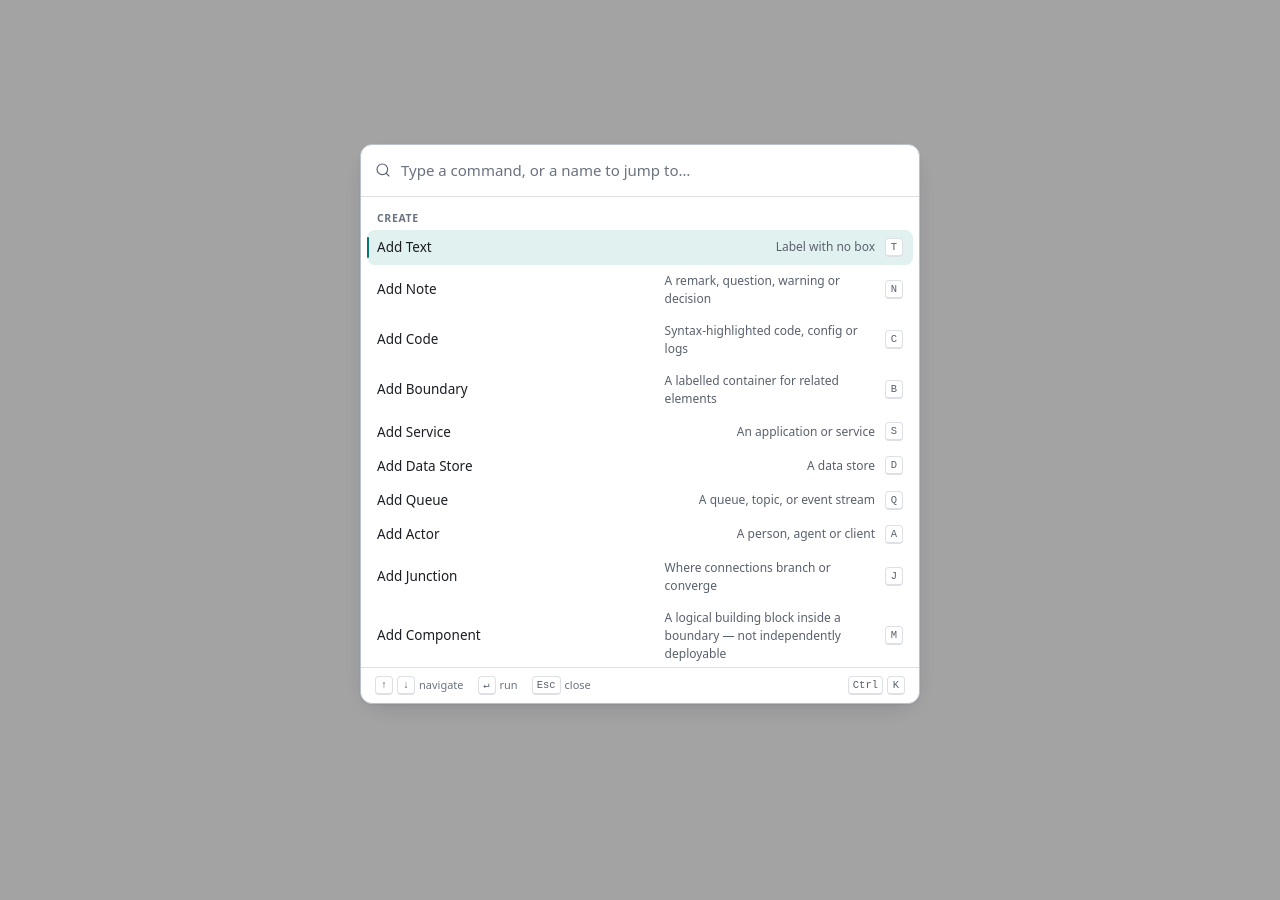
CommandPalette › shows "No matching commands." for a query nothing matches
This screenshot has width=1280, height=900.
Type " zzzzqq " into the dropdown at (653, 170), box [401, 157, 905, 184]
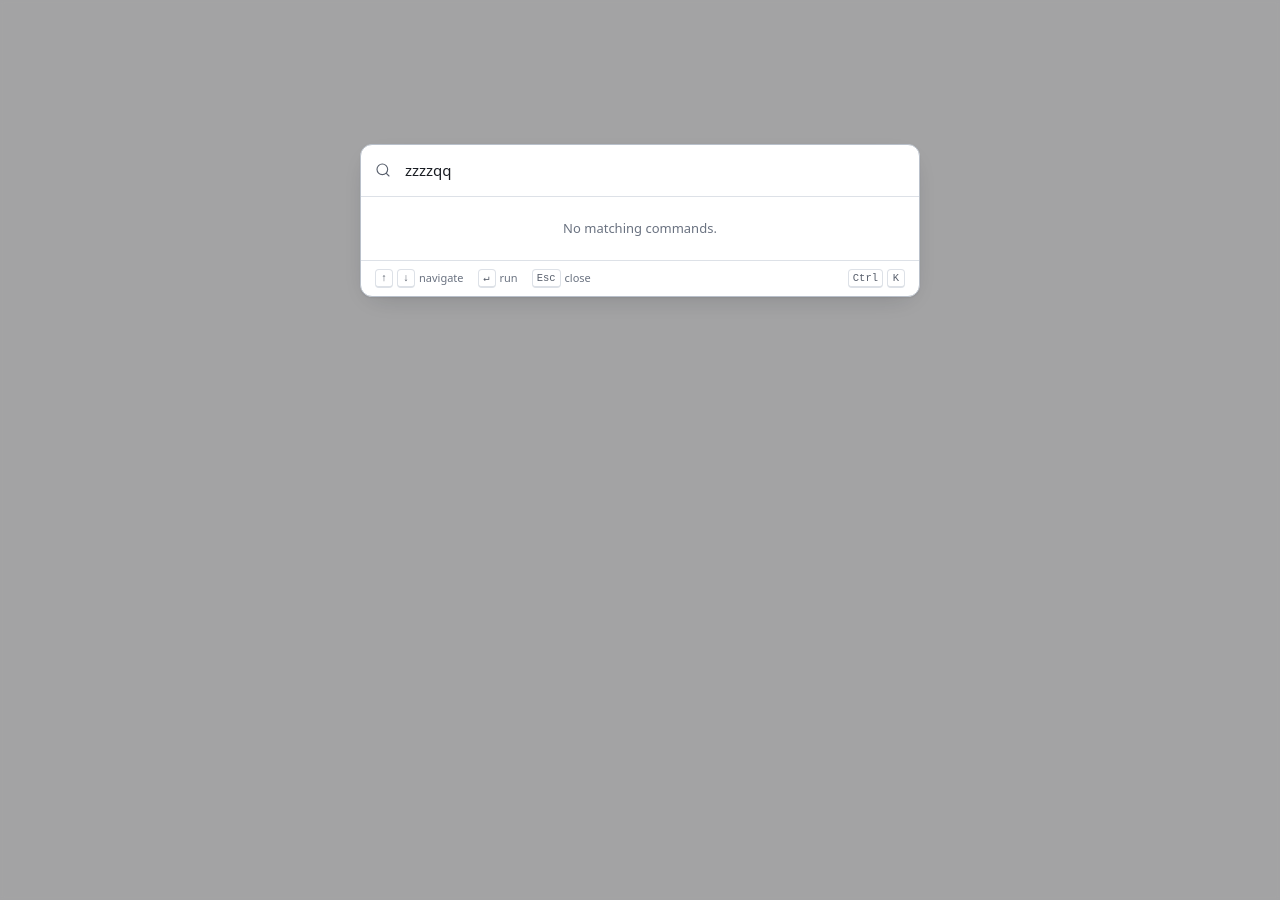
expect no options are shown: met
expect the text "No matching commands." is shown: met, box [563, 218, 717, 236]
